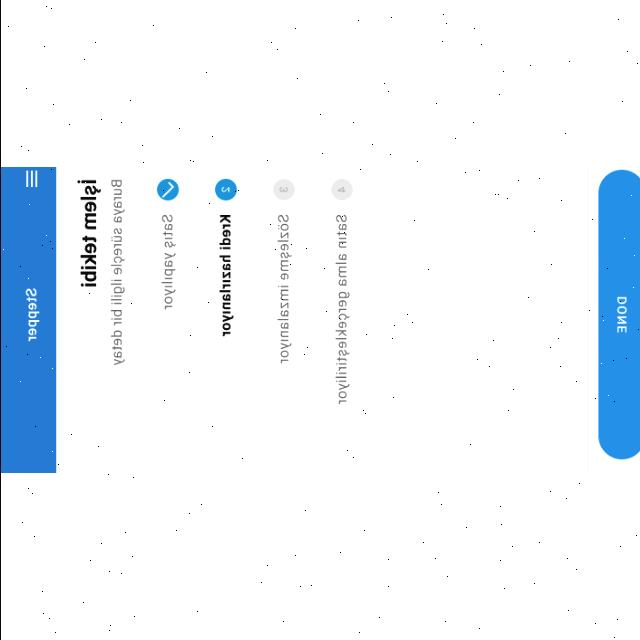QLabel: (108, 176, 126, 368), (334, 213, 348, 405), (77, 176, 99, 288), (275, 212, 291, 364), (217, 214, 233, 336), (160, 213, 176, 311), (25, 288, 39, 344), (615, 296, 627, 334)
VAppBar: (1, 167, 54, 473)
VBtn: (596, 168, 640, 462)
VDivider: (178, 188, 214, 192), (294, 188, 330, 192), (235, 188, 271, 192)
VFooter: (586, 167, 640, 473)
VIcon: (25, 170, 37, 188)
VStepper: (146, 168, 366, 418)
